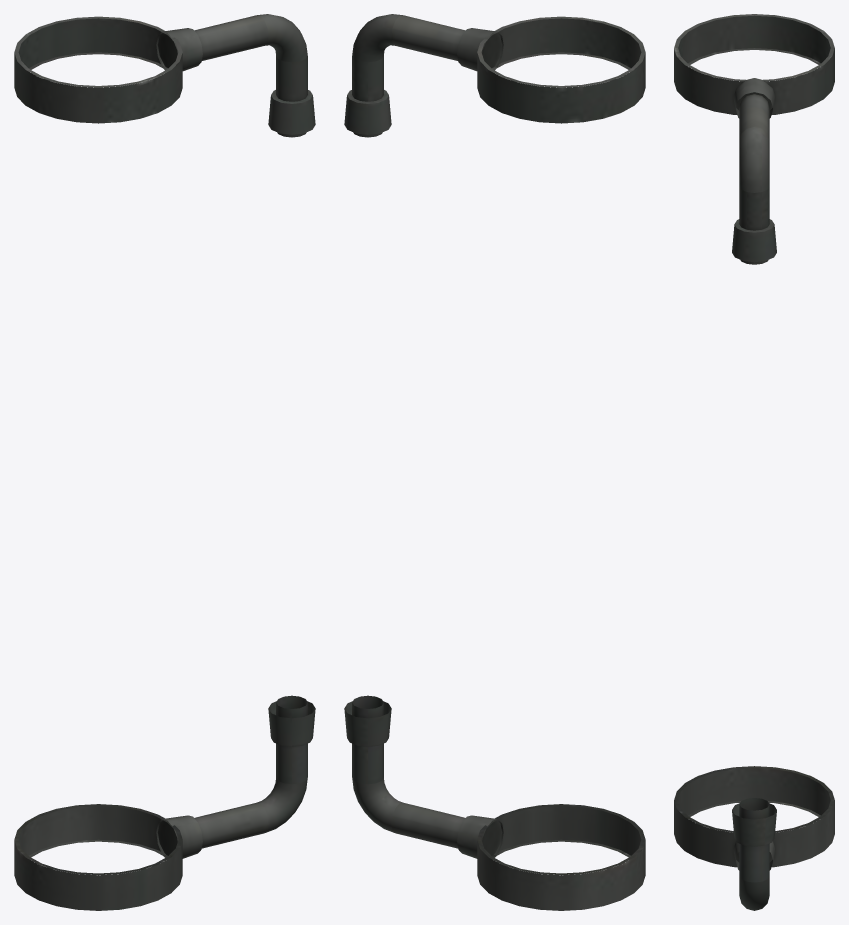
The model's file is sideMountMast-v1.glb.
3 renders of one model, left to right at view 1: azimuth 30°, elevation 25°; view 2: azimuth 150°, elevation 25°; view 3: azimuth 270°, elevation 25°, orthographic. The views are drawn at different scales.
Parts seen in each view (by area): view 1: sideMountMast-v1; view 2: sideMountMast-v1; view 3: sideMountMast-v1.
Boxes of the visible parts, x1,y1,x2,y2 form: sideMountMast-v1: [14, 14, 315, 910]; sideMountMast-v1: [344, 14, 645, 910]; sideMountMast-v1: [674, 14, 834, 910].
Size of the model in its own units: 0.5042 by 1.39 by 0.2563.
Materials: 1 (1 with a texture image).
